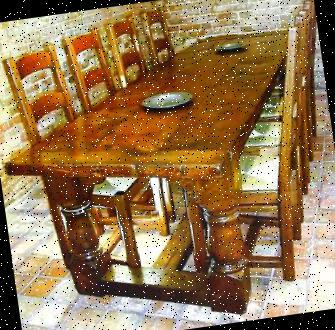Mesa: (0, 23, 332, 303)
Silla: (0, 25, 181, 306), (159, 8, 334, 288), (162, 11, 334, 290), (196, 0, 334, 202), (60, 19, 186, 229), (109, 10, 219, 202), (140, 0, 247, 145)
